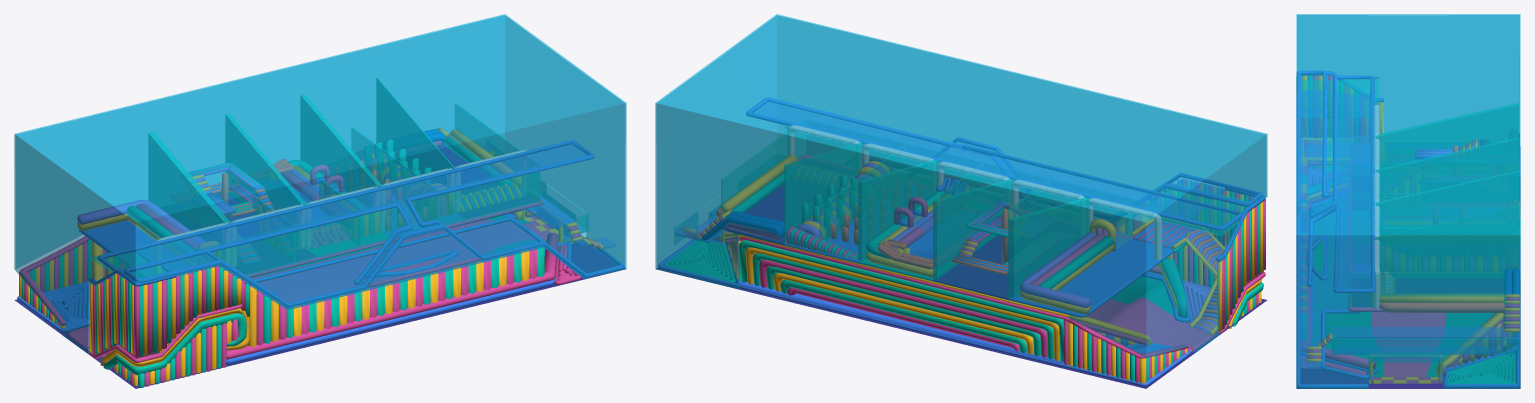
Rendered from dcl_knockout_stadium.glb.
The picture shows the model from 3 angles, left to right: view 1: azimuth 30°, elevation 25°; view 2: azimuth 150°, elevation 25°; view 3: azimuth 270°, elevation 25°; orthographic projection. The views are drawn at different scales.
Visible parts, largest first — view 1: externalWall, course_glass_walls, interior_glass_walls, Cylinder.033, platform.001, newCourse_mod, platform, Cylinder.214, game_floor, Cylinder.211, Cylinder.032, newArch (+17 smaller); view 2: externalWall, course_glass_walls, game_floor, platform, Cylinder.214, interior_glass_walls, newCourse_mod, Cylinder.211, newArch, inner_course_walls, Cylinder.014, Cylinder.016 (+27 smaller); view 3: externalWall, course_glass_walls, newCourse_mod, platform, platform.001, Cylinder.214, interior_glass_walls, knockout_lower_plat, Cylinder.211, front_ramp, start_gate_glass, game_floor (+18 smaller).
Boxes of the visible parts, x1,y1,x2,y2 form: externalWall: (14,14,626,353); course_glass_walls: (148,77,454,230); interior_glass_walls: (91,103,540,283); Cylinder.033: (286,246,544,338); platform.001: (161,203,583,309); newCourse_mod: (66,216,547,353); platform: (135,144,586,262); Cylinder.214: (17,217,624,332); game_floor: (79,142,533,277); Cylinder.211: (98,140,594,284); Cylinder.032: (226,232,558,359); newArch: (155,149,528,274); externalWall: (655,14,1267,357); course_glass_walls: (784,142,1089,297); game_floor: (721,184,1173,317); platform: (754,101,1205,218); Cylinder.214: (658,137,1262,386); interior_glass_walls: (721,126,1247,235); newCourse_mod: (1087,276,1218,351); Cylinder.211: (746,97,1242,230); newArch: (787,124,1162,259); inner_course_walls: (820,155,1050,240); Cylinder.014: (738,240,1064,362); Cylinder.016: (752,253,1054,359); externalWall: (1296,14,1520,388); course_glass_walls: (1375,103,1518,272); newCourse_mod: (1311,200,1494,377); platform: (1337,94,1370,288); platform.001: (1301,90,1347,368); Cylinder.214: (1296,70,1519,388); interior_glass_walls: (1301,77,1505,307); knockout_lower_plat: (1331,333,1518,354); Cylinder.211: (1307,75,1375,292); front_ramp: (1307,327,1519,368); start_gate_glass: (1368,354,1443,383); game_floor: (1352,146,1520,311).
Size of what is drawn, in the model's own units: 112 by 37.74 by 48.
17 materials, 16 textured.
